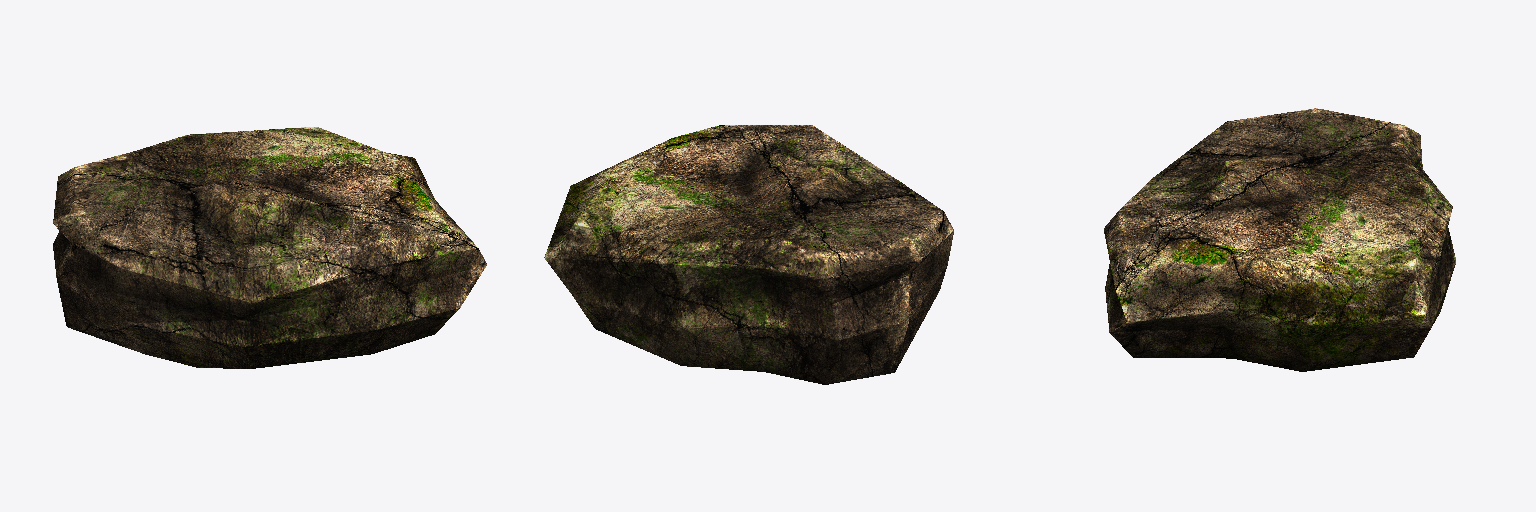
3 views of the same model, side by side, from view 1: azimuth 30°, elevation 25°; view 2: azimuth 150°, elevation 25°; view 3: azimuth 270°, elevation 25° (orthographic).
Visible parts, largest first — view 1: rock_011; view 2: rock_011; view 3: rock_011.
Boxes of the visible parts, x1=… form: rock_011: x1=53, y1=127, x2=486, y2=368; rock_011: x1=544, y1=125, x2=953, y2=384; rock_011: x1=1104, y1=108, x2=1455, y2=371.
Size of the model in its own units: 457 by 192 by 392.
Materials: 1 (1 with a texture image).